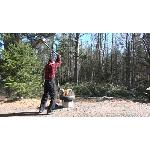Kapak: (36, 35, 66, 59)
